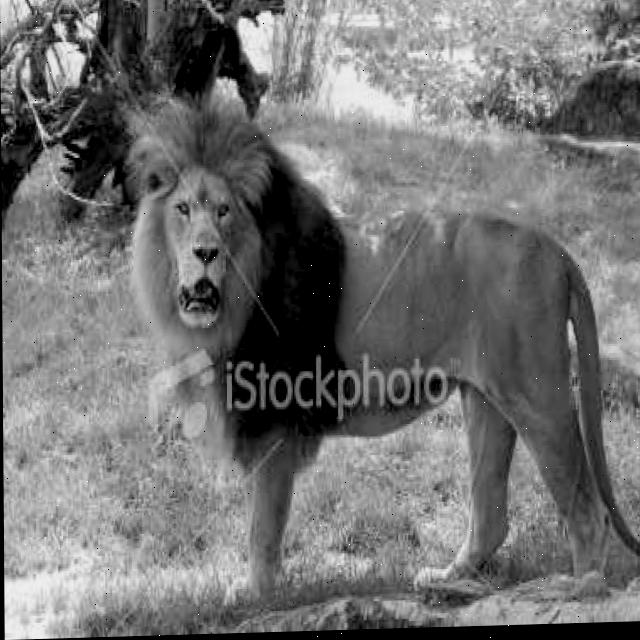Lion: (151, 66, 459, 549)
